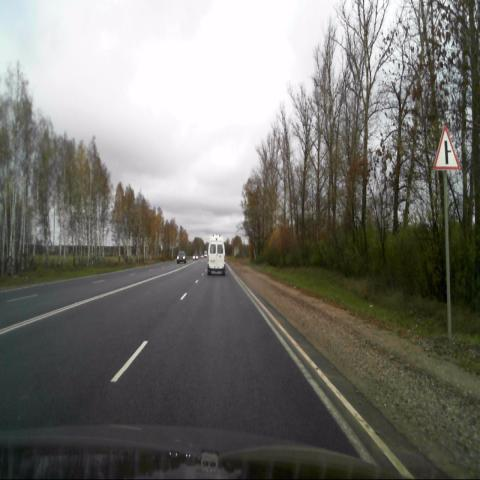2_3_2: (434, 125, 458, 170)
